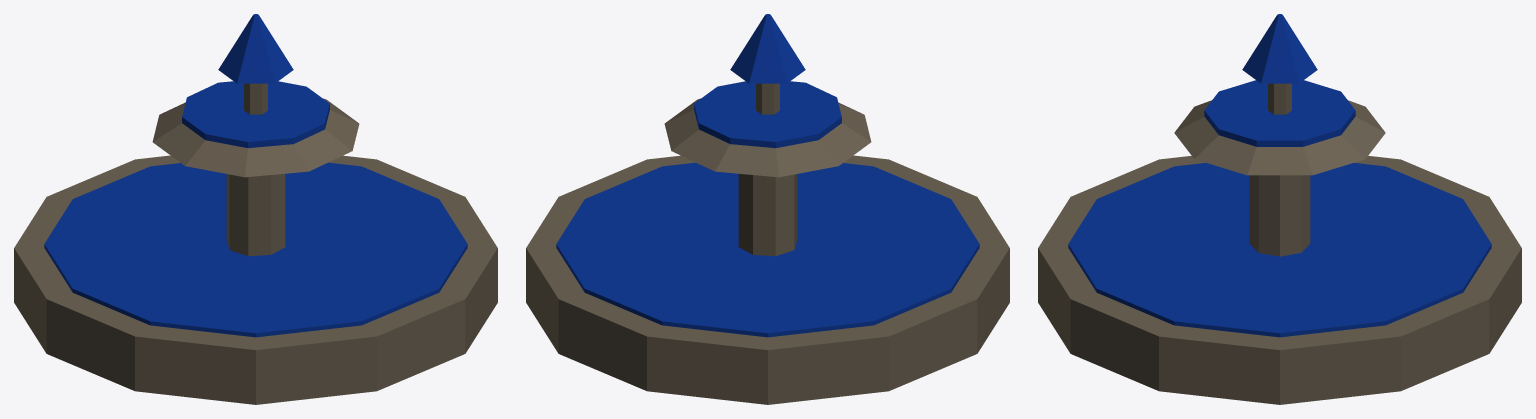
File: fountain.obj
The picture shows the model from 3 angles, left to right: view 1: azimuth 30°, elevation 25°; view 2: azimuth 150°, elevation 25°; view 3: azimuth 270°, elevation 25°; orthographic projection.
Parts seen in each view (by area): view 1: fountain; view 2: fountain; view 3: fountain.
Part boxes in pixels (bbox=[...]): fountain: bbox=[14, 14, 497, 404]; fountain: bbox=[526, 14, 1009, 404]; fountain: bbox=[1038, 14, 1521, 404].
Size of the model in its own units: 3.2 by 2.1 by 3.2.
